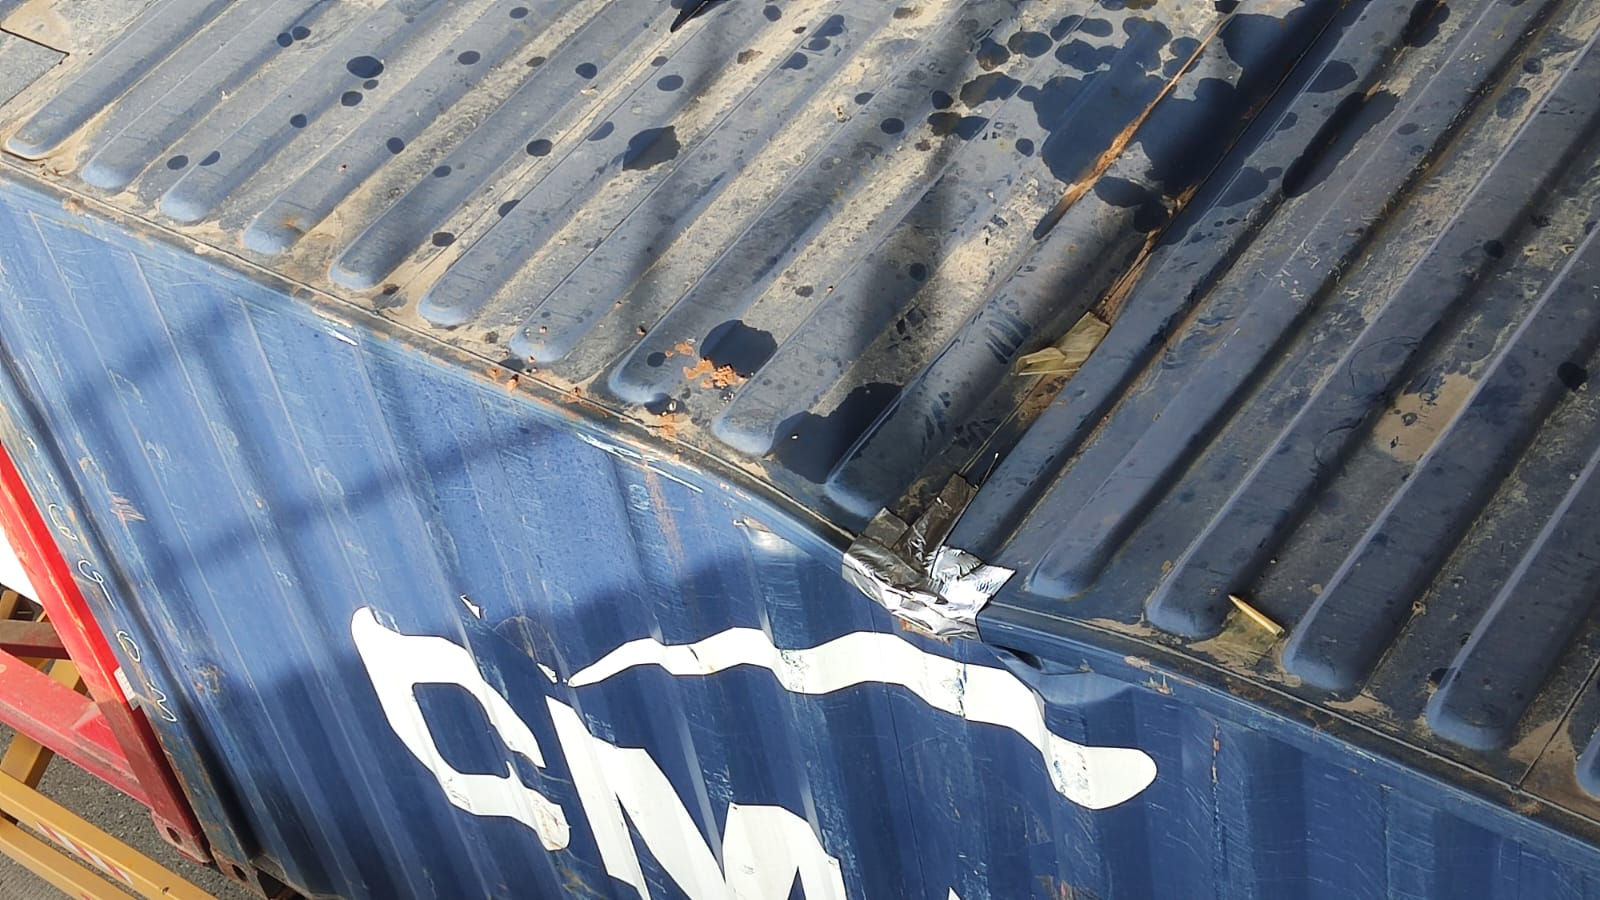moderate: (771, 402, 1110, 707)
